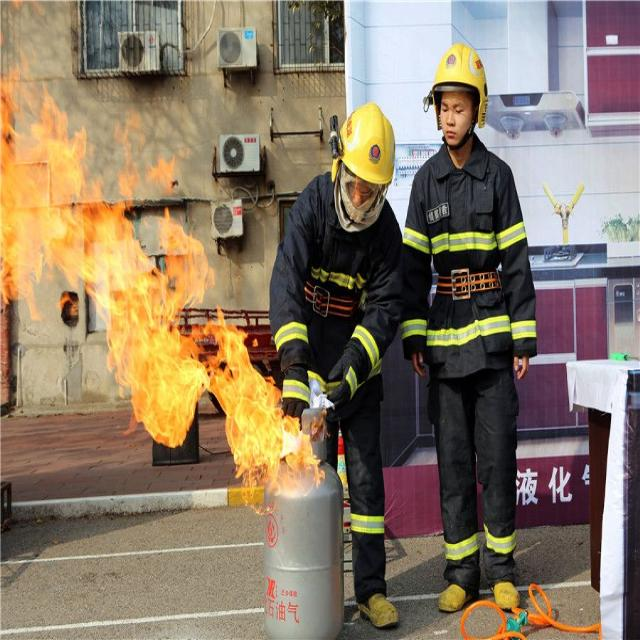fire: (0, 55, 306, 486)
